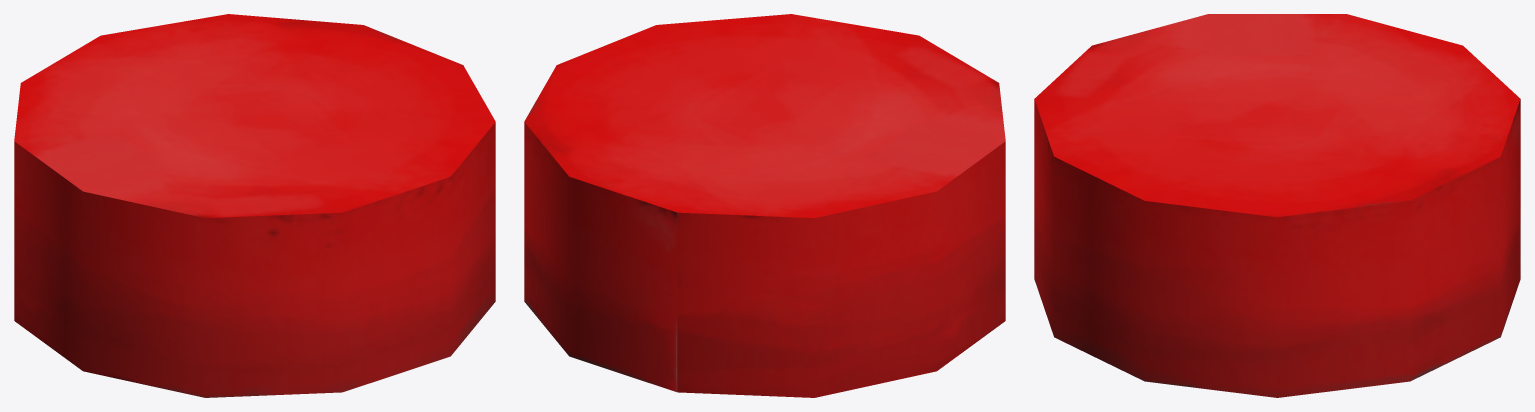
Rendered from Button_01_TL.FBX.
3 views of the same model, side by side, from view 1: azimuth 30°, elevation 25°; view 2: azimuth 150°, elevation 25°; view 3: azimuth 270°, elevation 25° (orthographic).
Visible parts, largest first — view 1: Button; view 2: Button; view 3: Button.
Part boxes in pixels (bbox=[...]): Button: bbox=[14, 14, 495, 397]; Button: bbox=[524, 14, 1005, 397]; Button: bbox=[1034, 14, 1520, 397].
Bounding box in the file's own units: 2.59 × 1.07 × 2.61.
